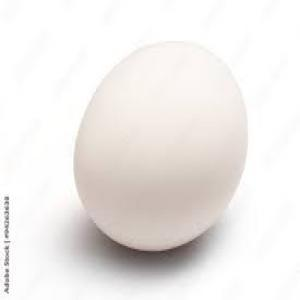Egg: (70, 39, 252, 255)
